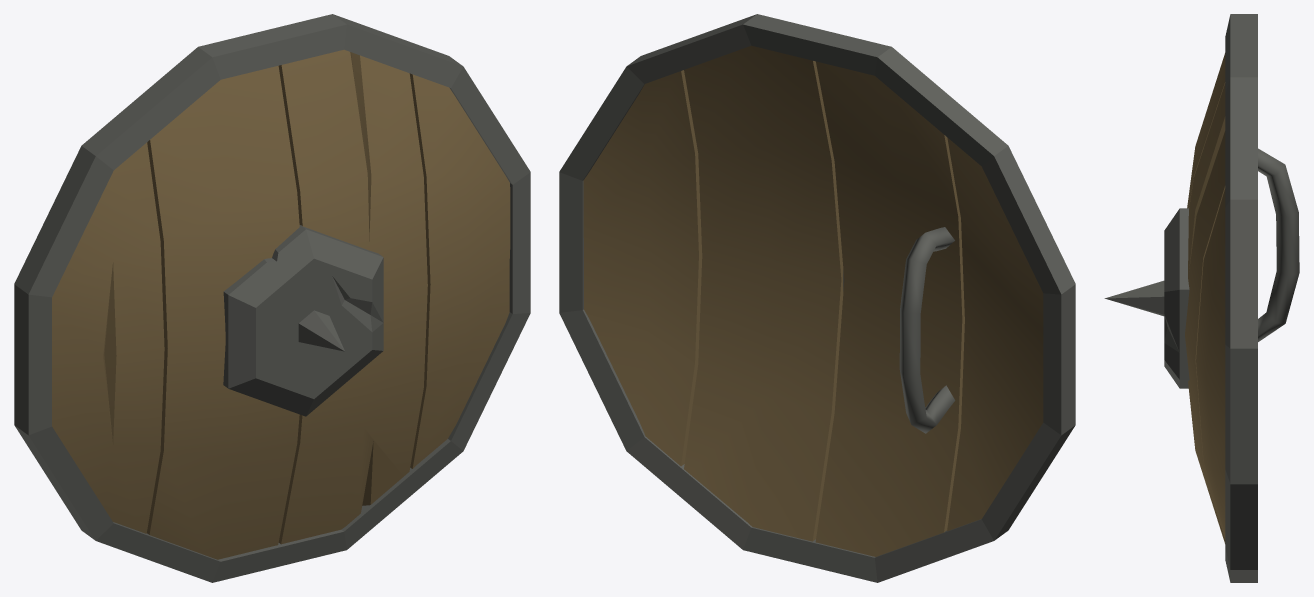
Rendered from shield.gltf.
The picture shows the model from 3 angles, left to right: view 1: azimuth 30°, elevation 25°; view 2: azimuth 150°, elevation 25°; view 3: azimuth 270°, elevation 25°; orthographic projection. The views are drawn at different scales.
Visible parts, largest first — view 1: Shield; view 2: Shield; view 3: Shield.
Part boxes in pixels (left/top/right/bottom): Shield: left=14, top=14, right=530, bottom=582; Shield: left=559, top=14, right=1075, bottom=582; Shield: left=1104, top=14, right=1299, bottom=582.
Bounding box in the file's own units: 0.5348 × 0.5348 × 0.1871.
Materials: 2 (2 with a texture image).
